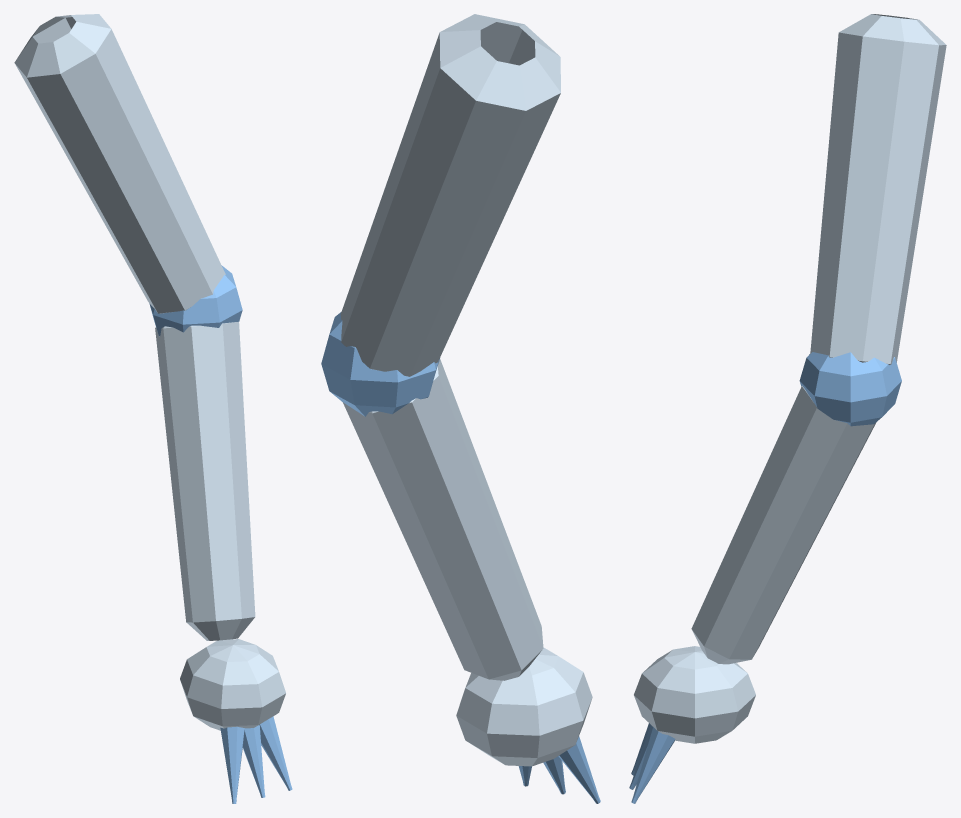
Rendered from frost_skeleton_arm_R.obj.
3 renders of one model, left to right at view 1: azimuth 30°, elevation 25°; view 2: azimuth 150°, elevation 25°; view 3: azimuth 270°, elevation 25°, orthographic. The views are drawn at different scales.
Parts seen in each view (by area): view 1: arm_upper_R, arm_lower_R, hand_R, arm_joint_R, claw_R_0, claw_R_2, claw_R_1; view 2: arm_upper_R, arm_lower_R, hand_R, arm_joint_R, claw_R_0; view 3: arm_upper_R, arm_lower_R, hand_R, arm_joint_R, claw_R_2.
Part boxes in pixels (left/top/right/bottom): arm_upper_R: left=14, top=14, right=225, bottom=313; arm_lower_R: left=155, top=321, right=255, bottom=640; hand_R: left=180, top=639, right=285, bottom=730; arm_joint_R: left=149, top=265, right=242, bottom=336; claw_R_0: left=220, top=726, right=244, bottom=803; claw_R_2: left=259, top=716, right=292, bottom=790; claw_R_1: left=242, top=725, right=265, bottom=797; arm_upper_R: left=340, top=14, right=560, bottom=376; arm_lower_R: left=342, top=359, right=543, bottom=680; hand_R: left=456, top=647, right=592, bottom=766; arm_joint_R: left=321, top=312, right=439, bottom=416; claw_R_0: left=558, top=736, right=600, bottom=803; arm_upper_R: left=810, top=14, right=946, bottom=364; arm_lower_R: left=691, top=386, right=876, bottom=664; hand_R: left=634, top=646, right=755, bottom=743; arm_joint_R: left=799, top=352, right=901, bottom=426; claw_R_2: left=631, top=727, right=675, bottom=803.
Size of the model in its own units: 0.2251 by 0.7723 by 0.3005.
